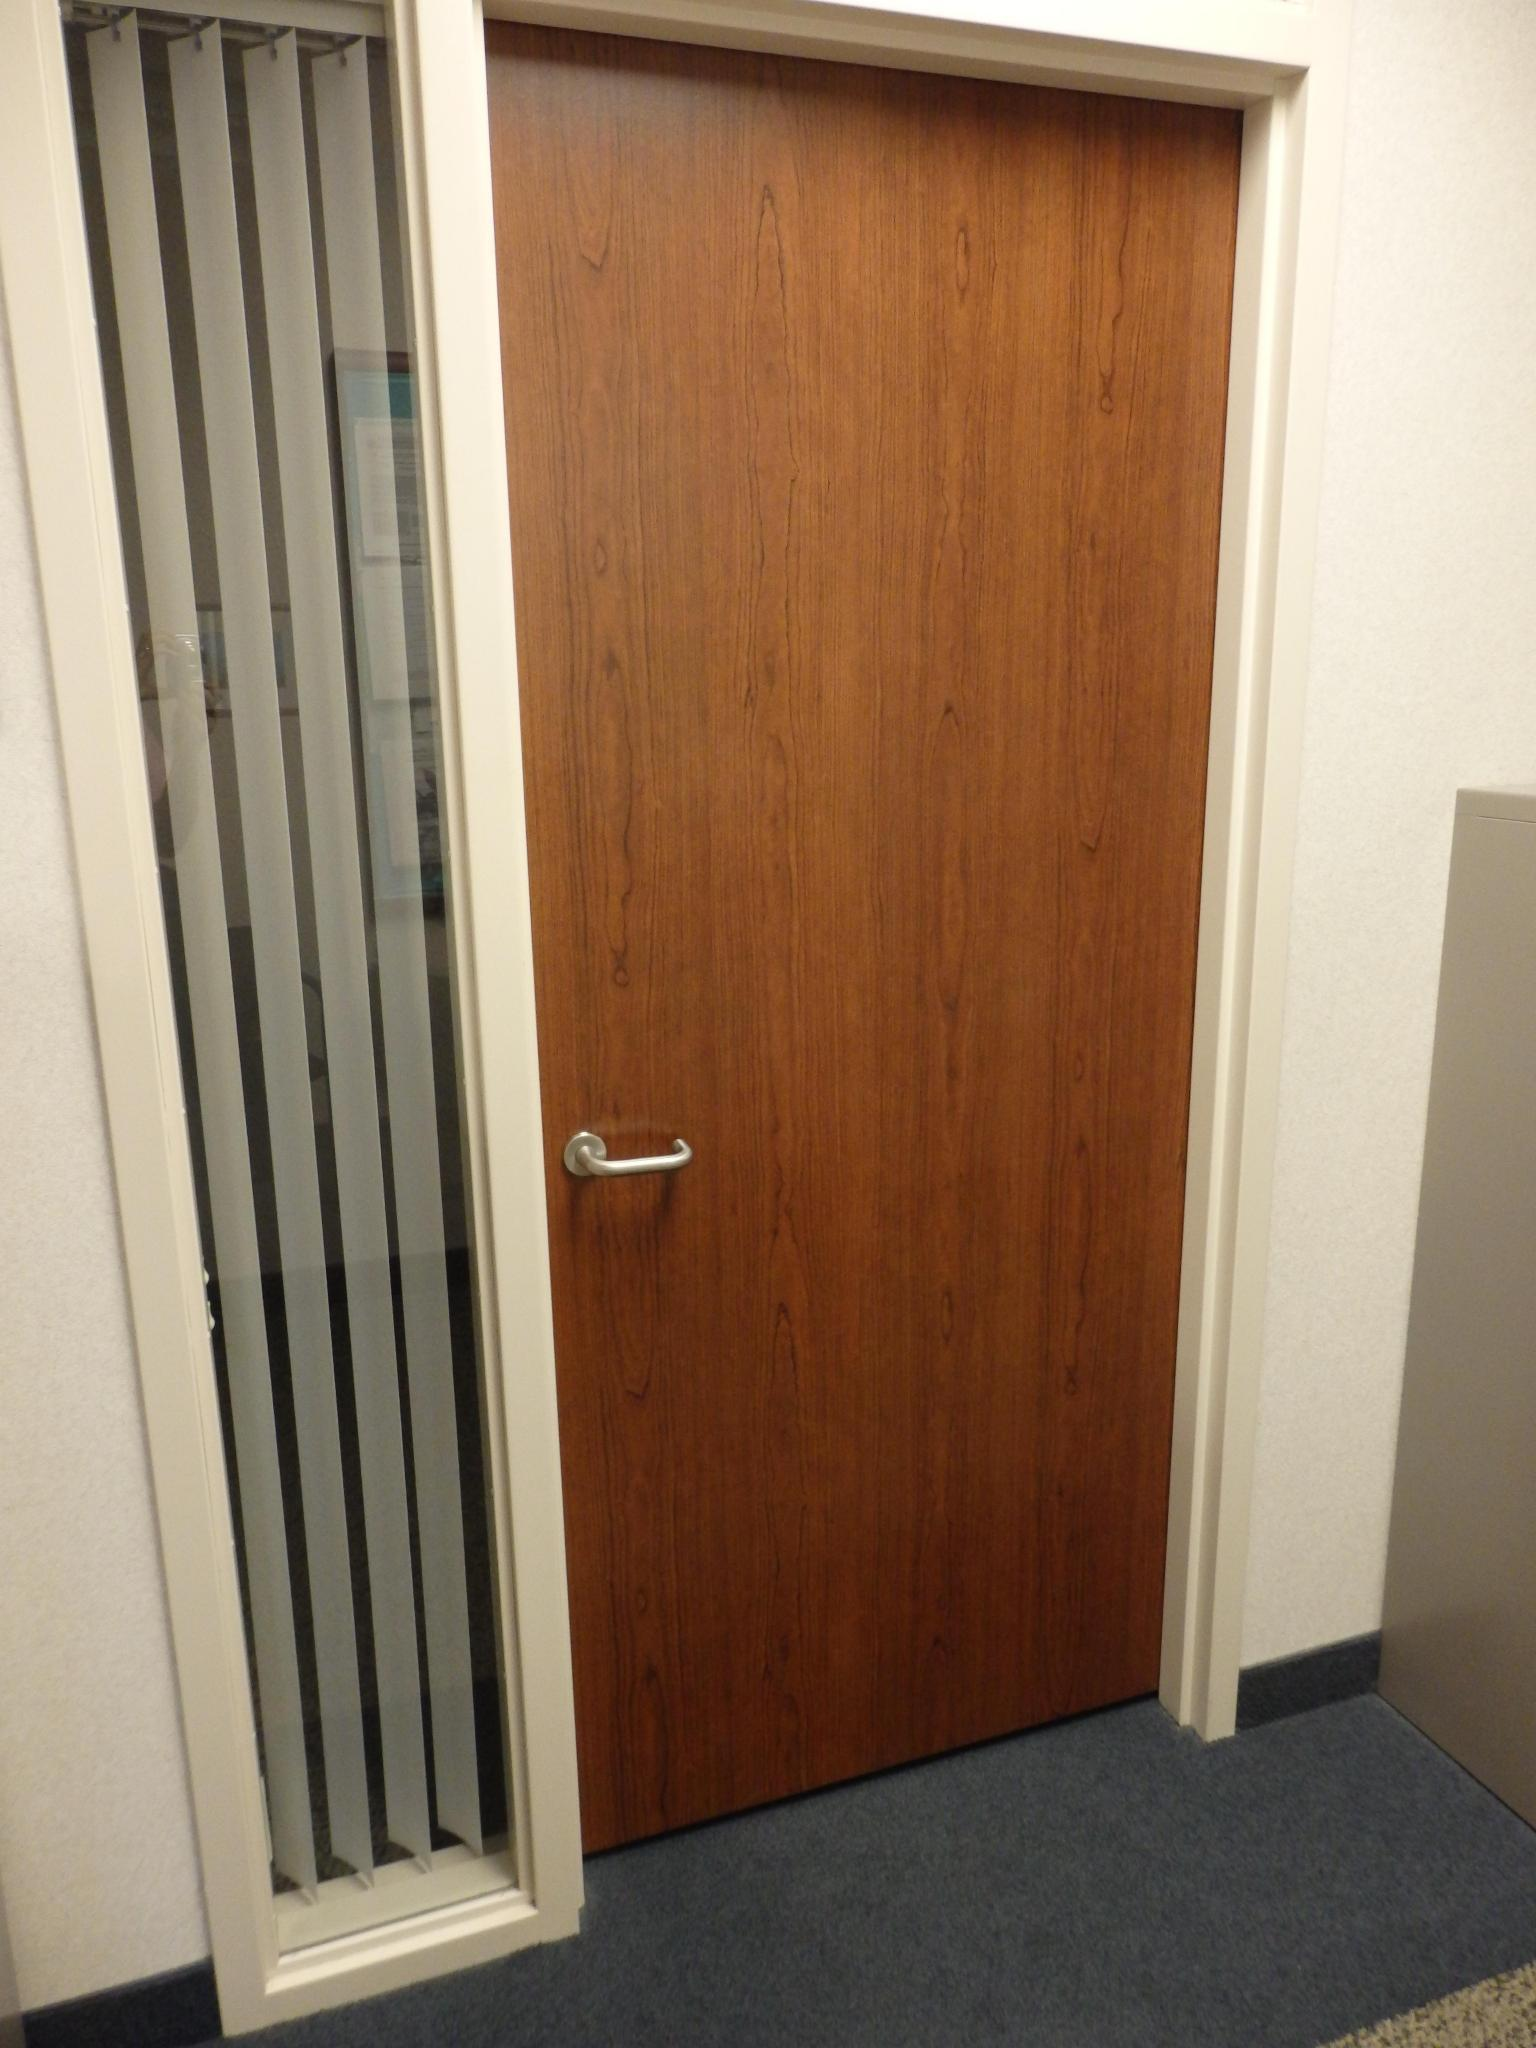door: (539, 89, 1184, 1703)
handle: (578, 1084, 707, 1216)
